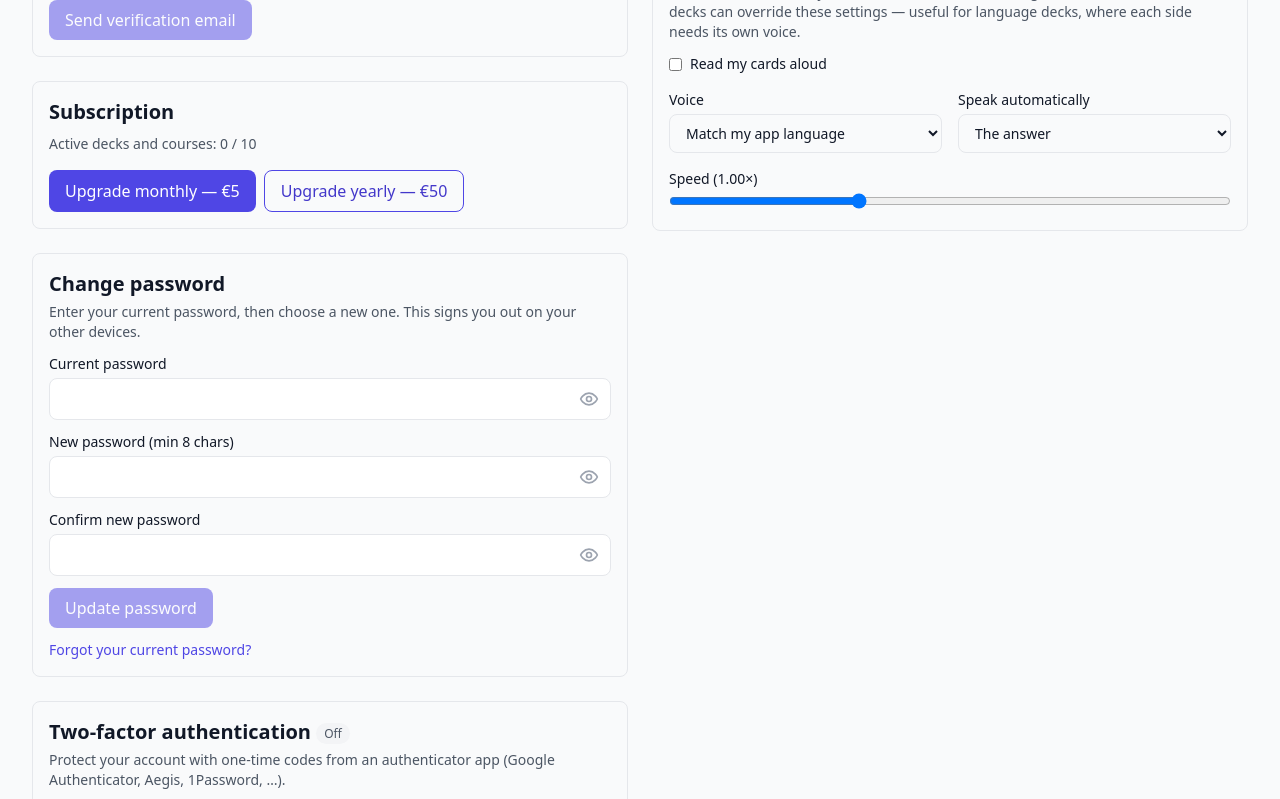
Test: SettingsPage › changing password submits current + new and confirms
(page scrolled)
Step 1. Type "OldPassw0rd" into the password field labelled "Current password" → x=330, y=399, box [49, 378, 611, 420]
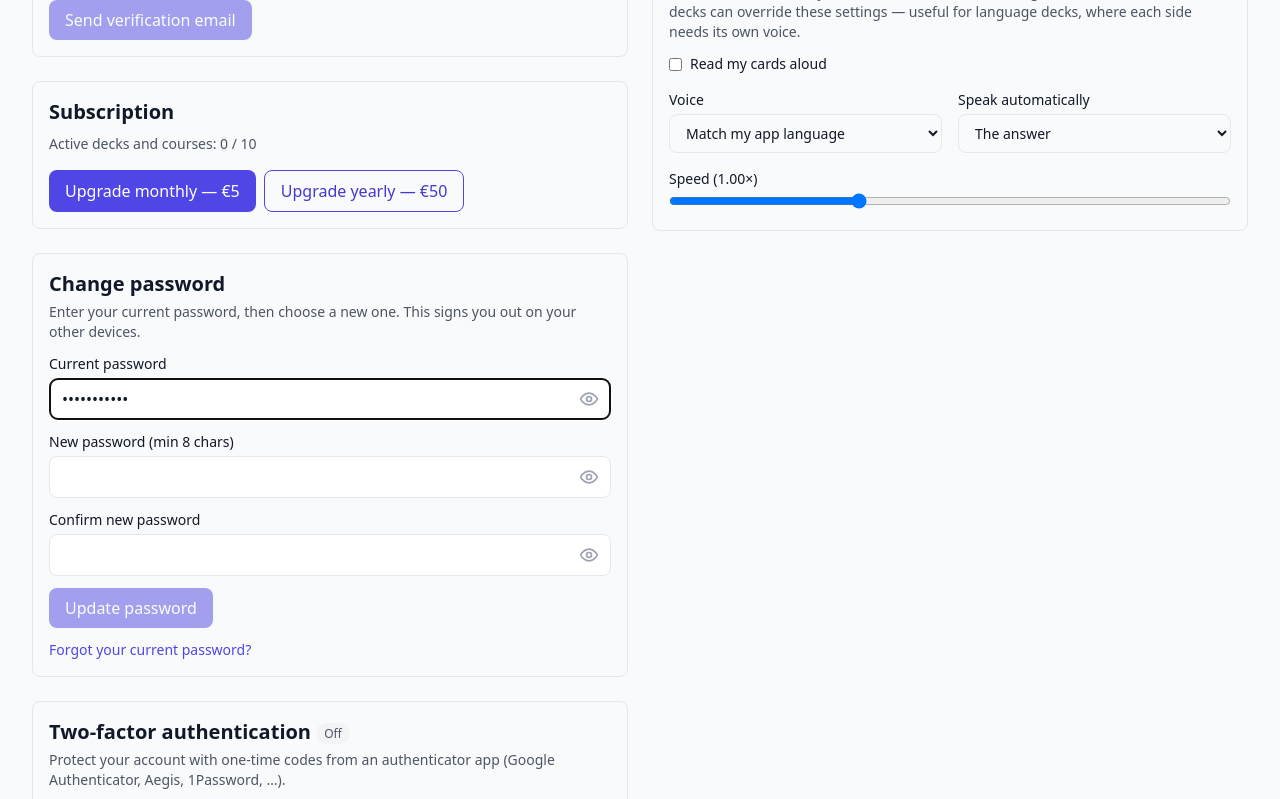
Step 2. Type "BrandNewPassw0rd" into the password field labelled "New password (min 8 chars)" → x=330, y=477, box [49, 456, 611, 498]
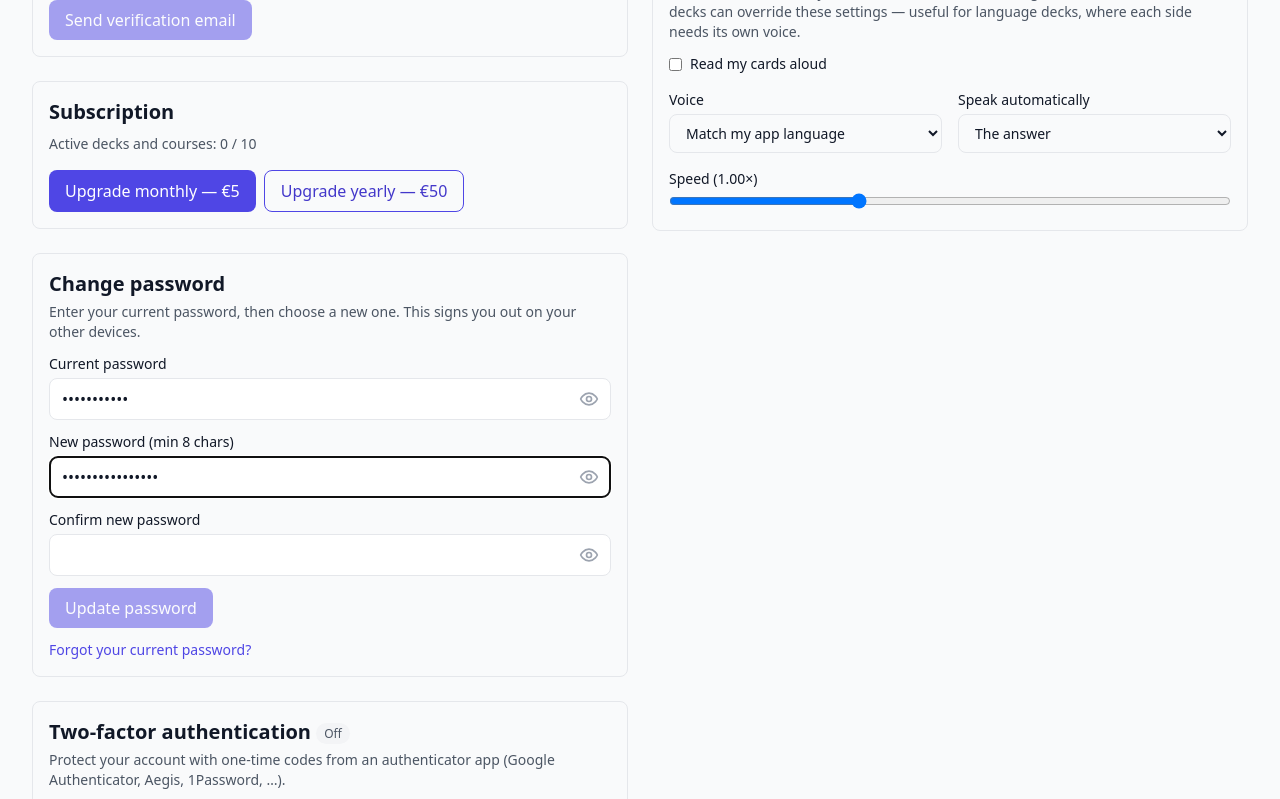
Step 3. Type "BrandNewPassw0rd" into the password field labelled "Confirm new password" → x=330, y=555, box [49, 534, 611, 576]
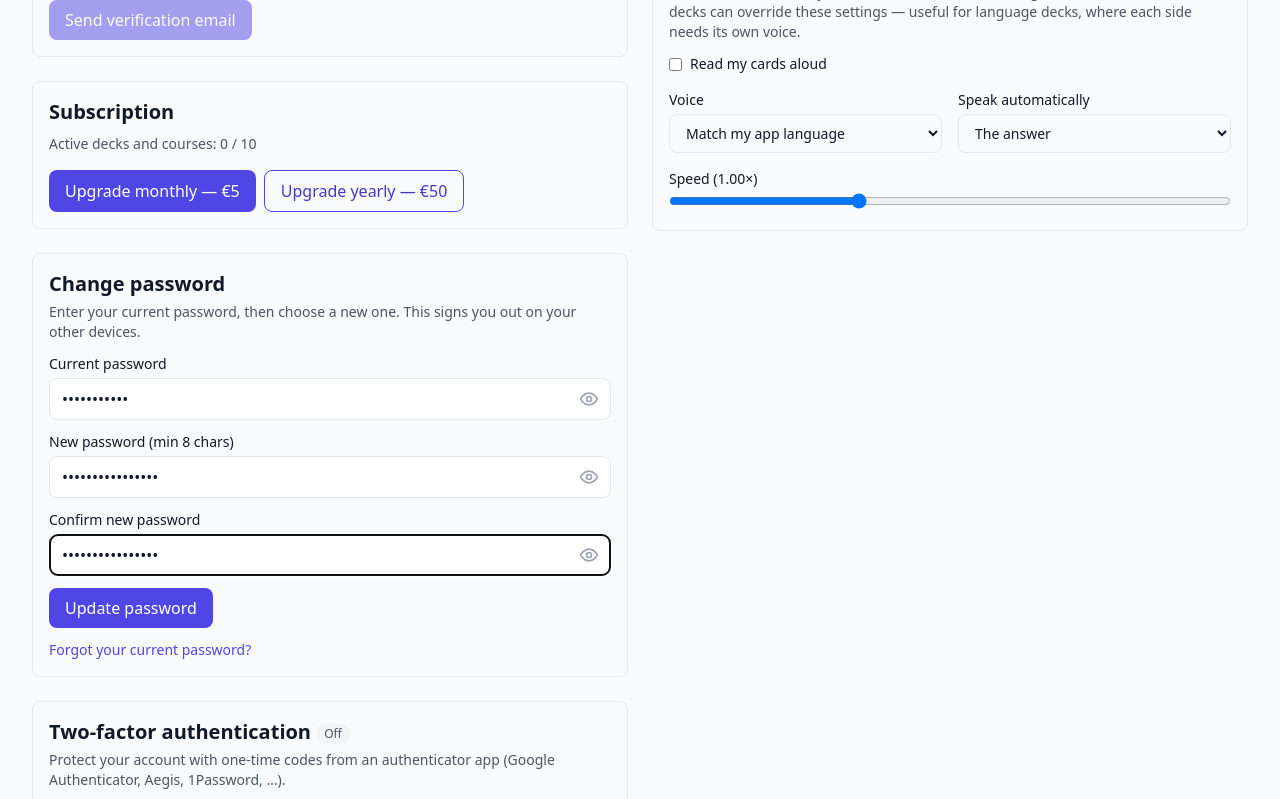
Step 4. Click the button "Update password" → x=131, y=608, box [49, 588, 213, 628]
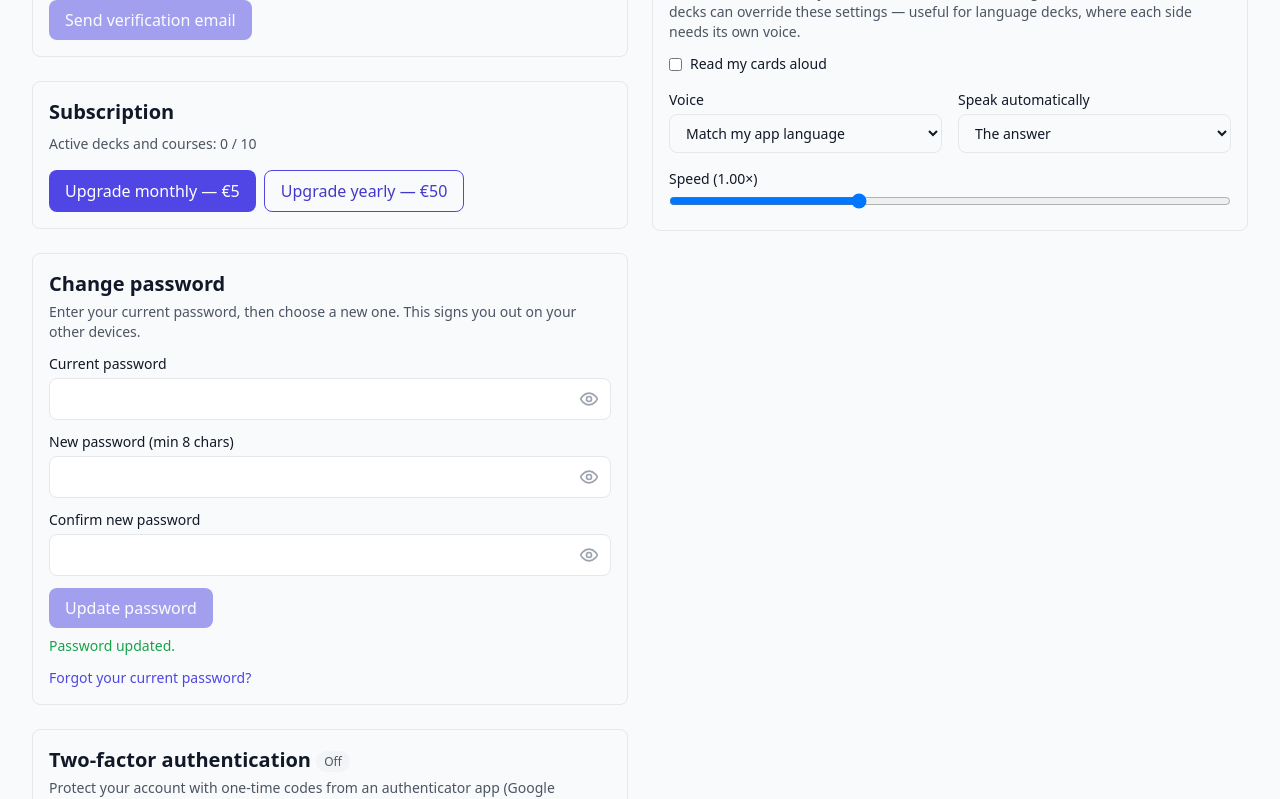
expect the text "Password updated." is shown: met, box [49, 636, 175, 655]
